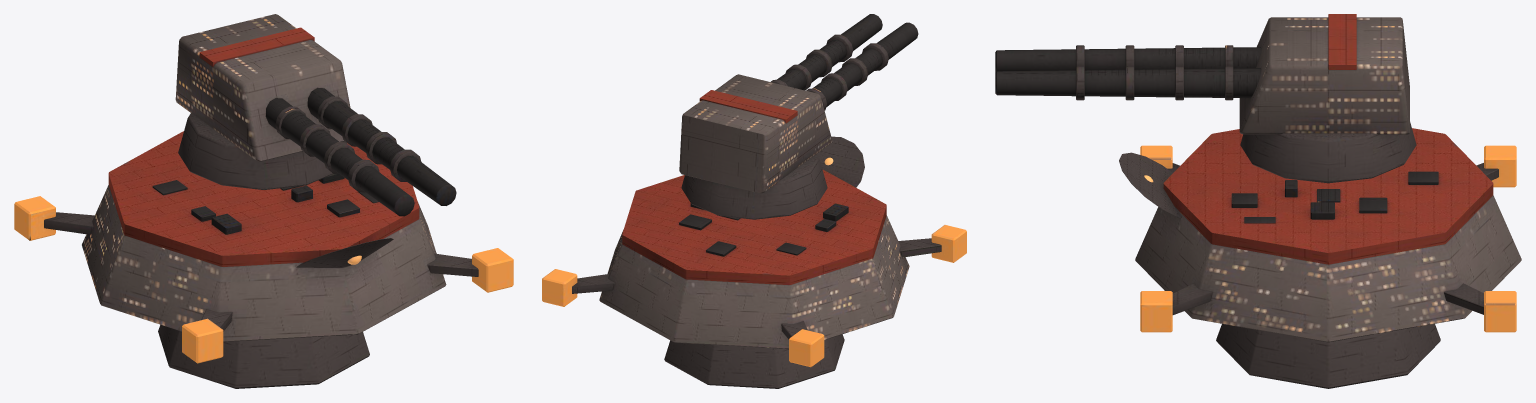
The model's file is vashkar_pds.glb.
3 renders of one model, left to right at view 1: azimuth 30°, elevation 25°; view 2: azimuth 150°, elevation 25°; view 3: azimuth 270°, elevation 25°, orthographic. The views are drawn at different scales.
Parts seen in each view (by area): view 1: HULL_mesh, SYS_WPN1_mesh, SYS_SENSORS_mesh; view 2: HULL_mesh, SYS_WPN1_mesh, SYS_SENSORS_mesh; view 3: HULL_mesh, SYS_WPN1_mesh, SYS_SENSORS_mesh.
Part boxes in pixels (x1=…): HULL_mesh: x1=14, y1=131, x2=513, y2=388; SYS_WPN1_mesh: x1=175, y1=14, x2=456, y2=216; SYS_SENSORS_mesh: x1=296, y1=238, x2=393, y2=267; HULL_mesh: x1=542, y1=169, x2=966, y2=388; SYS_WPN1_mesh: x1=679, y1=14, x2=918, y2=219; SYS_SENSORS_mesh: x1=817, y1=136, x2=864, y2=187; HULL_mesh: x1=1135, y1=128, x2=1521, y2=388; SYS_WPN1_mesh: x1=995, y1=14, x2=1416, y2=183; SYS_SENSORS_mesh: x1=1119, y1=152, x2=1180, y2=218.
Bounding box in the file's own units: 23.84 × 22.28 × 32.48.
Materials: 1 (1 with a texture image).
